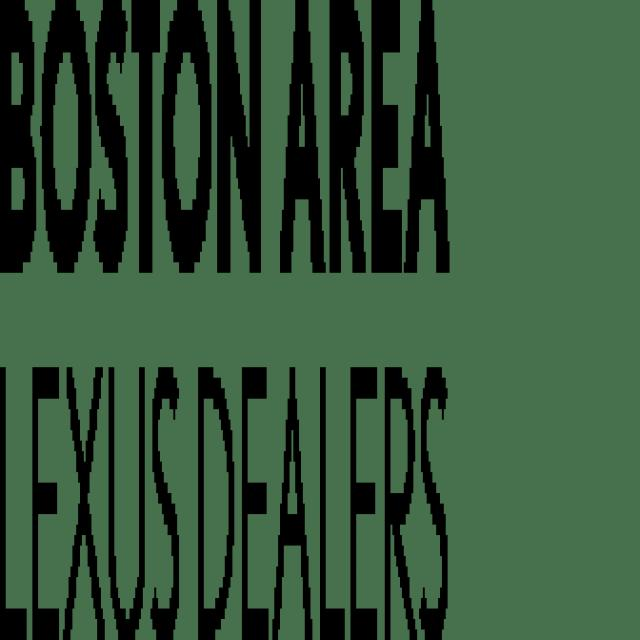Background Image: (0, 0, 638, 630)
Text Elements: (0, 346, 453, 629), (0, 0, 450, 273)
